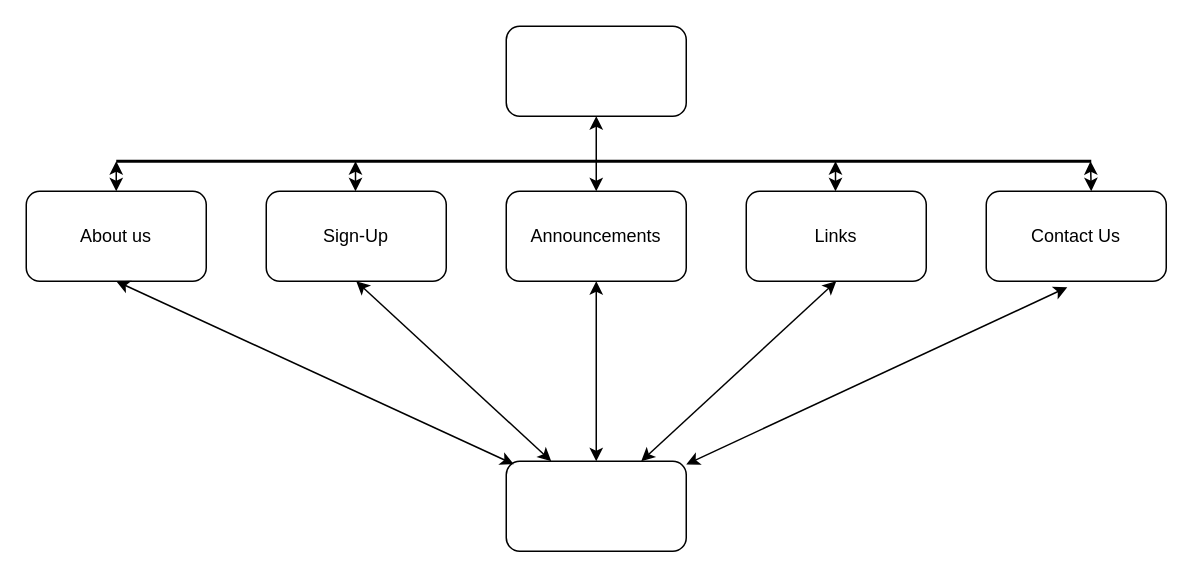
Image size: 1193x578. Some labels were removed from this diagram. The centre of each missing label's shape, as x and y in pixels:
"Guidelines" goes at (x=595, y=505).
"Home" goes at (x=595, y=70).
